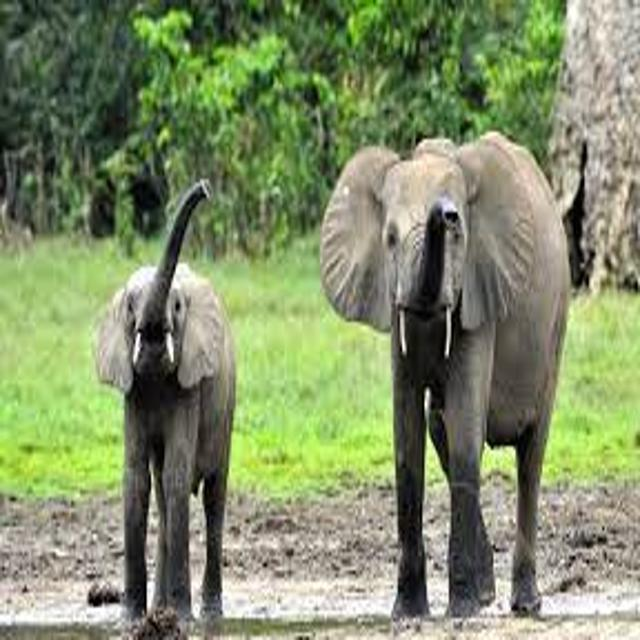elephant: (292, 107, 604, 633), (66, 156, 271, 640)
